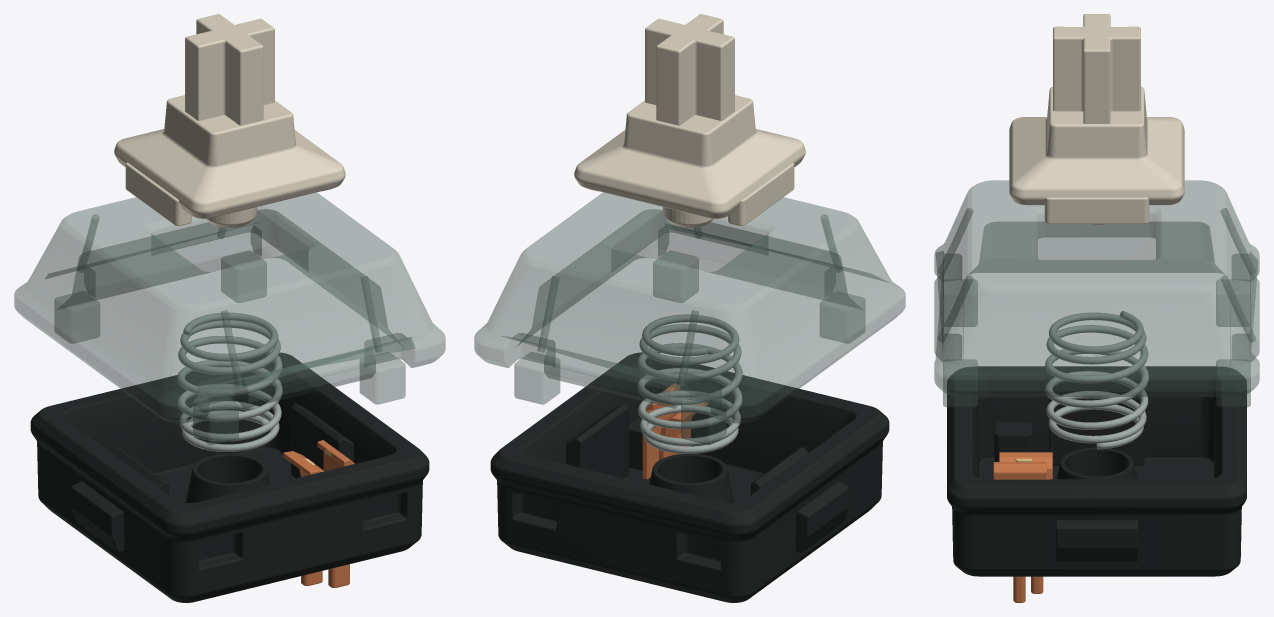
Rendered from kf01_hero_switch_b21.reference.glb.
3 renders of one model, left to right at view 1: azimuth 30°, elevation 25°; view 2: azimuth 150°, elevation 25°; view 3: azimuth 270°, elevation 25°, orthographic.
Parts seen in each view (by area): view 1: HERO_MX_PolycarbonateUpper, HERO_MX_LowerHousing, HERO_MX_POMCrossStem, HERO_MX_VariablePitchSpring, HERO_MX_UpperCornerHooks, HERO_MX_SpringSeat, HERO_MX_MoldedStemGuides, HERO_MX_PlateRetentionTabs, HERO_MX_POMSliderRunners, HERO_MX_UpperReinforcingRibs, HERO_MX_ConductiveTerminals, HERO_MX_StemCenterPost (+1 smaller); view 2: HERO_MX_PolycarbonateUpper, HERO_MX_LowerHousing, HERO_MX_POMCrossStem, HERO_MX_VariablePitchSpring, HERO_MX_UpperCornerHooks, HERO_MX_MoldedStemGuides, HERO_MX_SpringSeat, HERO_MX_PlateRetentionTabs, HERO_MX_POMSliderRunners, HERO_MX_UpperReinforcingRibs, HERO_MX_FixedLeaf, HERO_MX_MovingLeaf (+1 smaller); view 3: HERO_MX_PolycarbonateUpper, HERO_MX_LowerHousing, HERO_MX_POMCrossStem, HERO_MX_VariablePitchSpring, HERO_MX_UpperCornerHooks, HERO_MX_MoldedStemGuides, HERO_MX_PlateRetentionTabs, HERO_MX_POMSliderRunners, HERO_MX_SpringSeat, HERO_MX_UpperReinforcingRibs, HERO_MX_FixedLeaf, HERO_MX_MovingLeaf (+1 smaller).
Boxes of the visible parts, bbox=[...] form: HERO_MX_PolycarbonateUpper: bbox=[14, 192, 445, 423]; HERO_MX_LowerHousing: bbox=[30, 352, 429, 602]; HERO_MX_POMCrossStem: bbox=[114, 14, 345, 218]; HERO_MX_VariablePitchSpring: bbox=[177, 312, 282, 451]; HERO_MX_UpperCornerHooks: bbox=[54, 251, 405, 445]; HERO_MX_SpringSeat: bbox=[185, 453, 270, 502]; HERO_MX_MoldedStemGuides: bbox=[111, 403, 353, 494]; HERO_MX_PlateRetentionTabs: bbox=[70, 481, 124, 552]; HERO_MX_POMSliderRunners: bbox=[125, 162, 332, 225]; HERO_MX_UpperReinforcingRibs: bbox=[82, 214, 382, 386]; HERO_MX_ConductiveTerminals: bbox=[301, 564, 349, 587]; HERO_MX_StemCenterPost: bbox=[206, 207, 257, 227]; HERO_MX_PolycarbonateUpper: bbox=[474, 192, 905, 423]; HERO_MX_LowerHousing: bbox=[490, 352, 889, 602]; HERO_MX_POMCrossStem: bbox=[574, 14, 805, 218]; HERO_MX_VariablePitchSpring: bbox=[637, 314, 742, 453]; HERO_MX_UpperCornerHooks: bbox=[514, 251, 865, 445]; HERO_MX_MoldedStemGuides: bbox=[566, 403, 808, 494]; HERO_MX_SpringSeat: bbox=[649, 453, 734, 502]; HERO_MX_PlateRetentionTabs: bbox=[795, 481, 849, 552]; HERO_MX_POMSliderRunners: bbox=[587, 162, 794, 225]; HERO_MX_UpperReinforcingRibs: bbox=[537, 214, 837, 386]; HERO_MX_FixedLeaf: bbox=[642, 383, 680, 479]; HERO_MX_MovingLeaf: bbox=[659, 402, 708, 460]; HERO_MX_PolycarbonateUpper: bbox=[934, 180, 1259, 396]; HERO_MX_LowerHousing: bbox=[947, 366, 1246, 576]; HERO_MX_POMCrossStem: bbox=[1009, 14, 1184, 205]; HERO_MX_VariablePitchSpring: bbox=[1045, 311, 1148, 449]; HERO_MX_UpperCornerHooks: bbox=[943, 279, 1250, 407]; HERO_MX_MoldedStemGuides: bbox=[994, 393, 1144, 479]; HERO_MX_PlateRetentionTabs: bbox=[1056, 520, 1137, 562]; HERO_MX_POMSliderRunners: bbox=[1044, 197, 1149, 223]; HERO_MX_SpringSeat: bbox=[1056, 447, 1137, 479]; HERO_MX_UpperReinforcingRibs: bbox=[937, 208, 1256, 342]; HERO_MX_FixedLeaf: bbox=[993, 462, 1046, 479]; HERO_MX_MovingLeaf: bbox=[999, 452, 1052, 479].
Size of the model in its own units: 0.0153 by 0.0277 by 0.0153.
